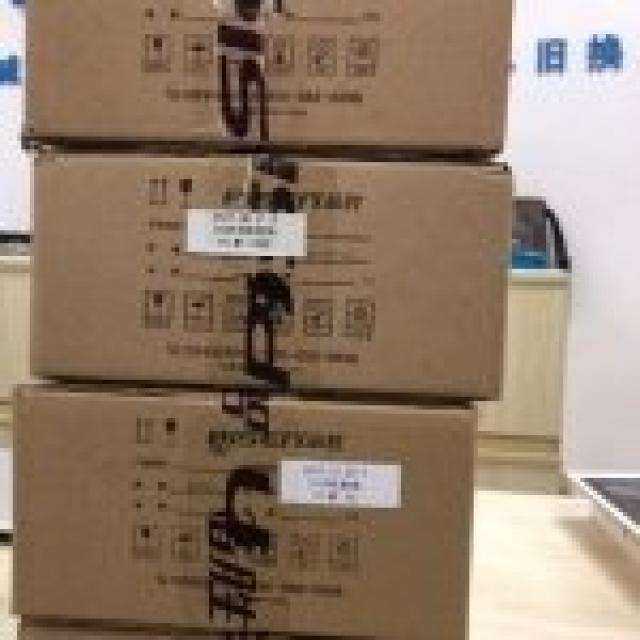box: (29, 147, 509, 400), (13, 380, 479, 636), (21, 3, 516, 160)
